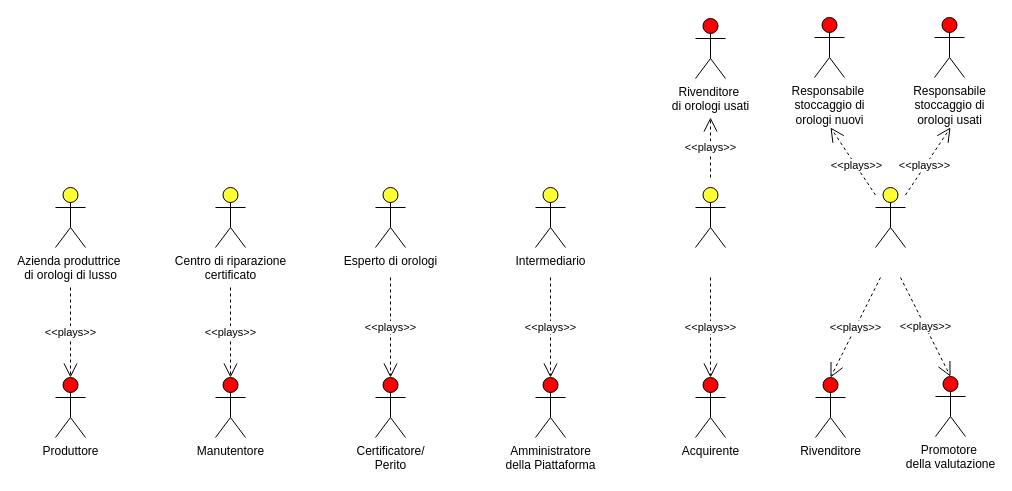
This 1012x491 diagram has some shape labels left out. The shapes that lost their labels are listed below. From the top down, each one's centre as x and y in pixels, then its label:
point (710, 217): Cliente finale
point (890, 217): Venditore
